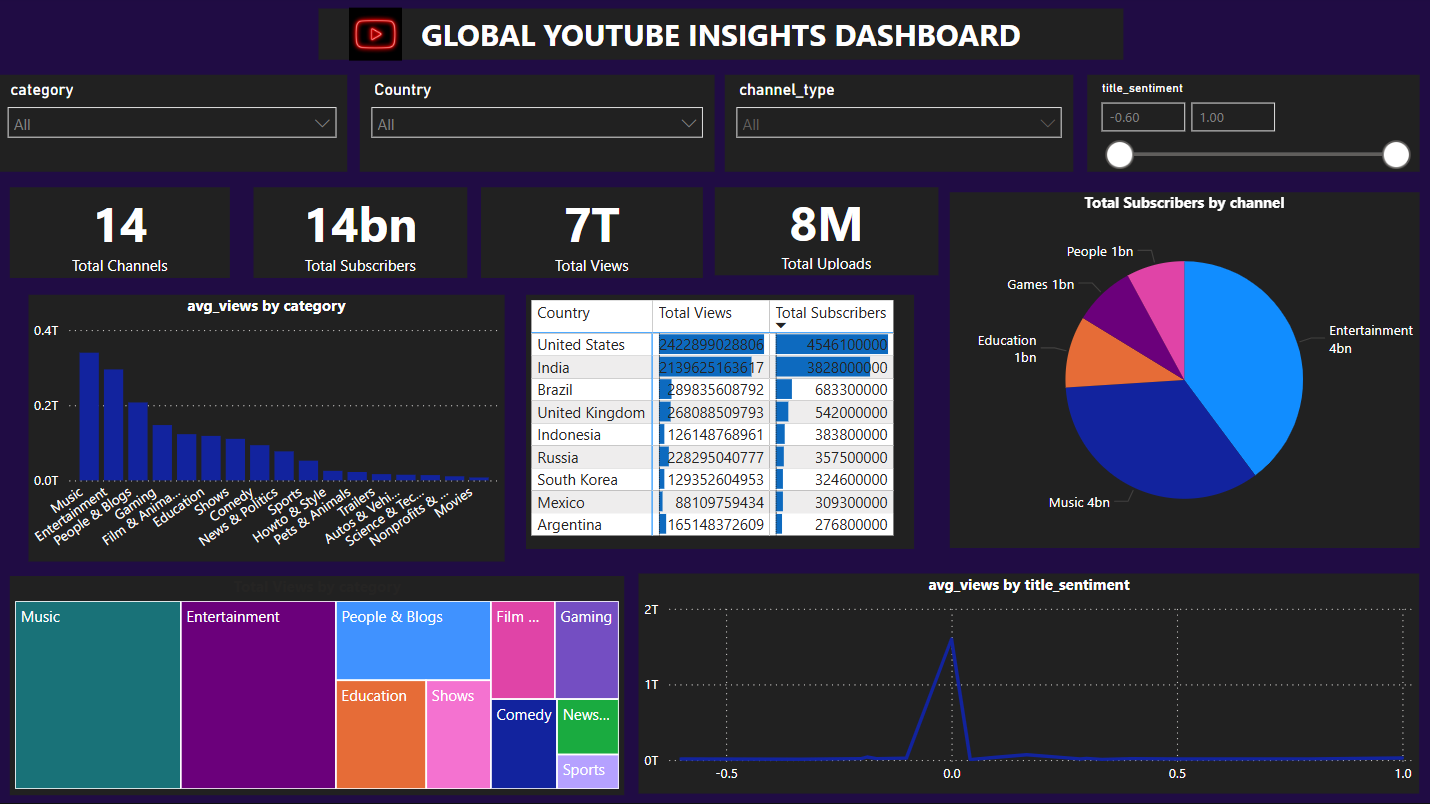

What the dashboard file says about the page in this screenshot:
{"tool":"powerbi","page":{"name":"Page 1","canvas":[1280,720],"ordinal":0},"visuals":[{"type":"slicer","fields":{"Values":["YouTube_Trending_Cleaned.category"]},"box":[0,69.7,312.9,86.8],"z":0},{"type":"slicer","fields":{"Values":["YouTube_Trending_Cleaned.Country"]},"box":[324.3,69.7,315.7,86.8],"z":1000},{"type":"slicer","fields":{"Values":["YouTube_Trending_Cleaned.channel_type"]},"box":[648.5,69.7,310,86.8],"z":2000},{"type":"slicer","fields":{"Values":["YouTube_Trending_Cleaned.title_sentiment"]},"box":[971.4,69.7,295.8,86.8],"z":3000},{"type":"card","fields":{"Values":["MeasureTable.Total Channels"]},"box":[12.8,170.7,196.3,81.1],"z":4000},{"type":"card","fields":{"Values":["MeasureTable.Total Subscribers"]},"box":[229,170.7,190.6,81.1],"z":5000},{"type":"card","fields":{"Values":["MeasureTable.Total Views"]},"box":[432.4,170.7,197.7,81.1],"z":6000},{"type":"card","fields":{"Values":["MeasureTable.Total Uploads"]},"box":[640,170.7,199.1,78.2],"z":7000},{"type":"columnChart","title":"avg_views by category","fields":{"Category":["YouTube_Trending_Cleaned.category"],"Y":["Sum(category_avg_views.avg_views)"]},"box":[28.4,266,423.8,237.5],"z":8000},{"type":"pieChart","title":"Total Subscribers by channel","fields":{"Category":["YouTube_Trending_Cleaned.channel_type"],"Y":["MeasureTable.Total Subscribers"]},"box":[849.1,174.9,418.1,317.2],"z":9000},{"type":"treemap","fields":{"Group":["YouTube_Trending_Cleaned.category"],"Values":["MeasureTable.Total Views"]},"box":[12.8,516.3,547.6,194.8],"z":10000},{"type":"lineChart","title":"avg_views by title_sentiment","fields":{"Category":["YouTube_Trending_Cleaned.title_sentiment"],"Y":["Sum(category_avg_views.avg_views)"]},"box":[571.7,514.8,695.5,196.3],"z":11000},{"type":"pivotTable","fields":{"Rows":["YouTube_Trending_Cleaned.Country"],"Values":["MeasureTable.Total Views","MeasureTable.Total Subscribers"]},"box":[472.2,266,345.6,226.1],"z":12000},{"type":"textbox","box":[287.3,11.4,716.8,45.5],"z":13000},{"type":"image","box":[267.4,5.7,140.8,56.9],"z":13001}]}

Visuals, with their boxes in screenshot pixels (x1, y1, x2, y2), scaled from the page's 1280x720 canvas onto the 1430x804 screenshot:
slicer - YouTube_Trending_Cleaned.category: <box>0,78,350,175</box>
slicer - YouTube_Trending_Cleaned.Country: <box>362,78,715,175</box>
slicer - YouTube_Trending_Cleaned.channel_type: <box>724,78,1071,175</box>
slicer - YouTube_Trending_Cleaned.title_sentiment: <box>1085,78,1416,175</box>
card - MeasureTable.Total Channels: <box>14,191,234,281</box>
card - MeasureTable.Total Subscribers: <box>256,191,469,281</box>
card - MeasureTable.Total Views: <box>483,191,704,281</box>
card - MeasureTable.Total Uploads: <box>715,191,937,278</box>
"avg_views by category" columnChart: <box>32,297,505,562</box>
"Total Subscribers by channel" pieChart: <box>949,195,1416,550</box>
treemap - YouTube_Trending_Cleaned.category x MeasureTable.Total Views: <box>14,577,626,794</box>
"avg_views by title_sentiment" lineChart: <box>639,575,1416,794</box>
pivotTable - YouTube_Trending_Cleaned.Country x MeasureTable.Total Views: <box>528,297,914,550</box>
textbox: <box>321,13,1122,64</box>
image: <box>299,6,456,70</box>
